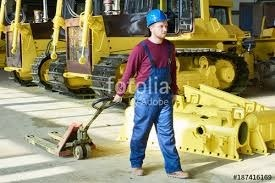helmet: (144, 8, 171, 29)
person with partial safety: (111, 9, 195, 179)
